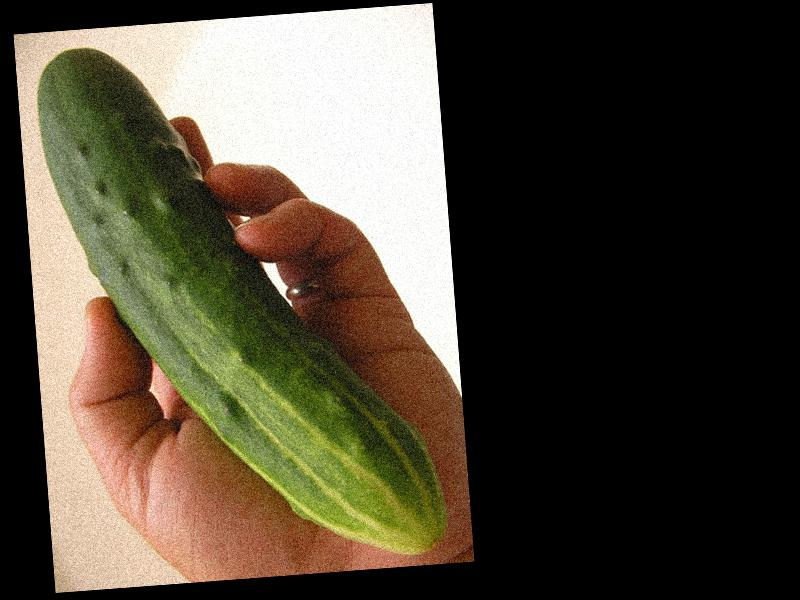Cucumber: (35, 23, 449, 577)
